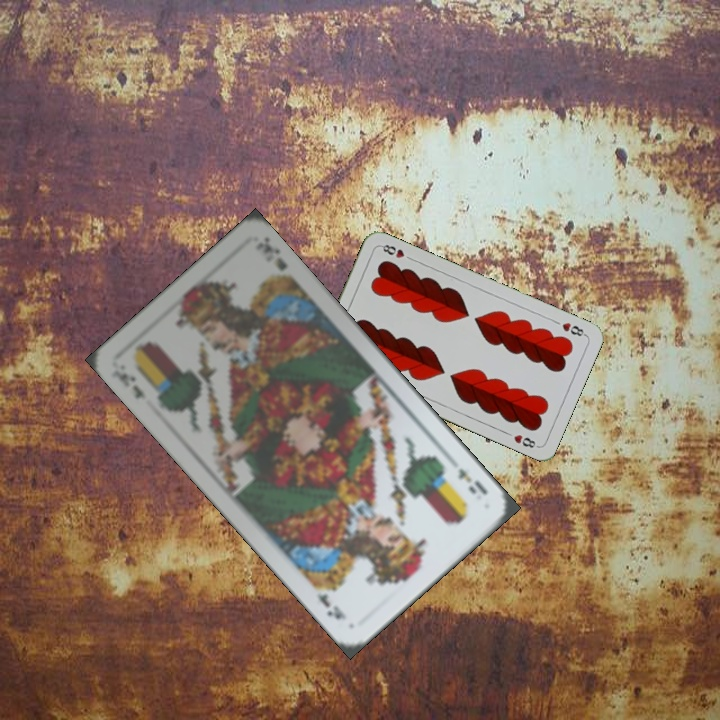EK: (108, 365, 149, 402), (453, 464, 491, 498)
H8: (558, 318, 589, 339)
